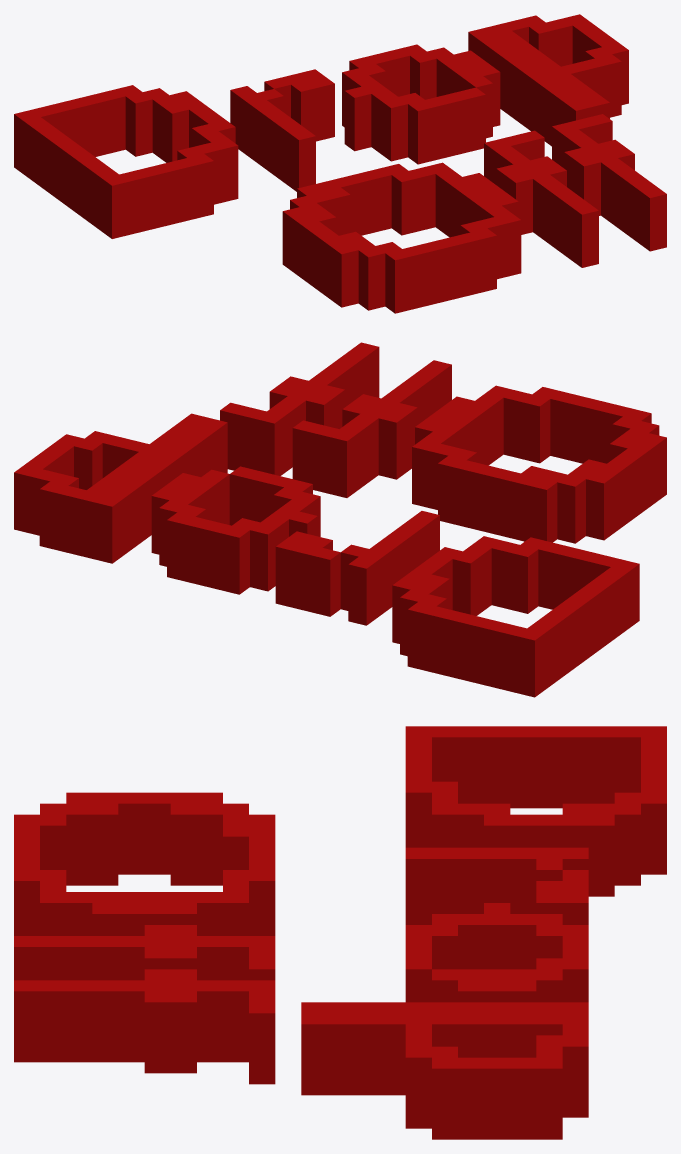
Rendered from Drop_off.fbx.
3 renders of one model, top to bottom at view 1: azimuth 30°, elevation 25°; view 2: azimuth 150°, elevation 25°; view 3: azimuth 270°, elevation 25°, orthographic. The views are drawn at different scales.
Visible parts, largest first — view 1: Text; view 2: Text; view 3: Text.
Boxes of the visible parts, left/top/right/bottom form: Text: left=14, top=14, right=666, bottom=313; Text: left=14, top=342, right=666, bottom=697; Text: left=14, top=726, right=666, bottom=1139.
Bounding box in the file's own units: 204 × 19.75 × 165.
